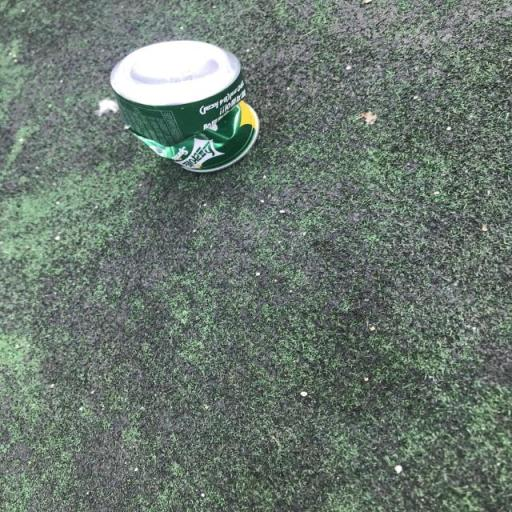metal: (92, 24, 288, 182)
